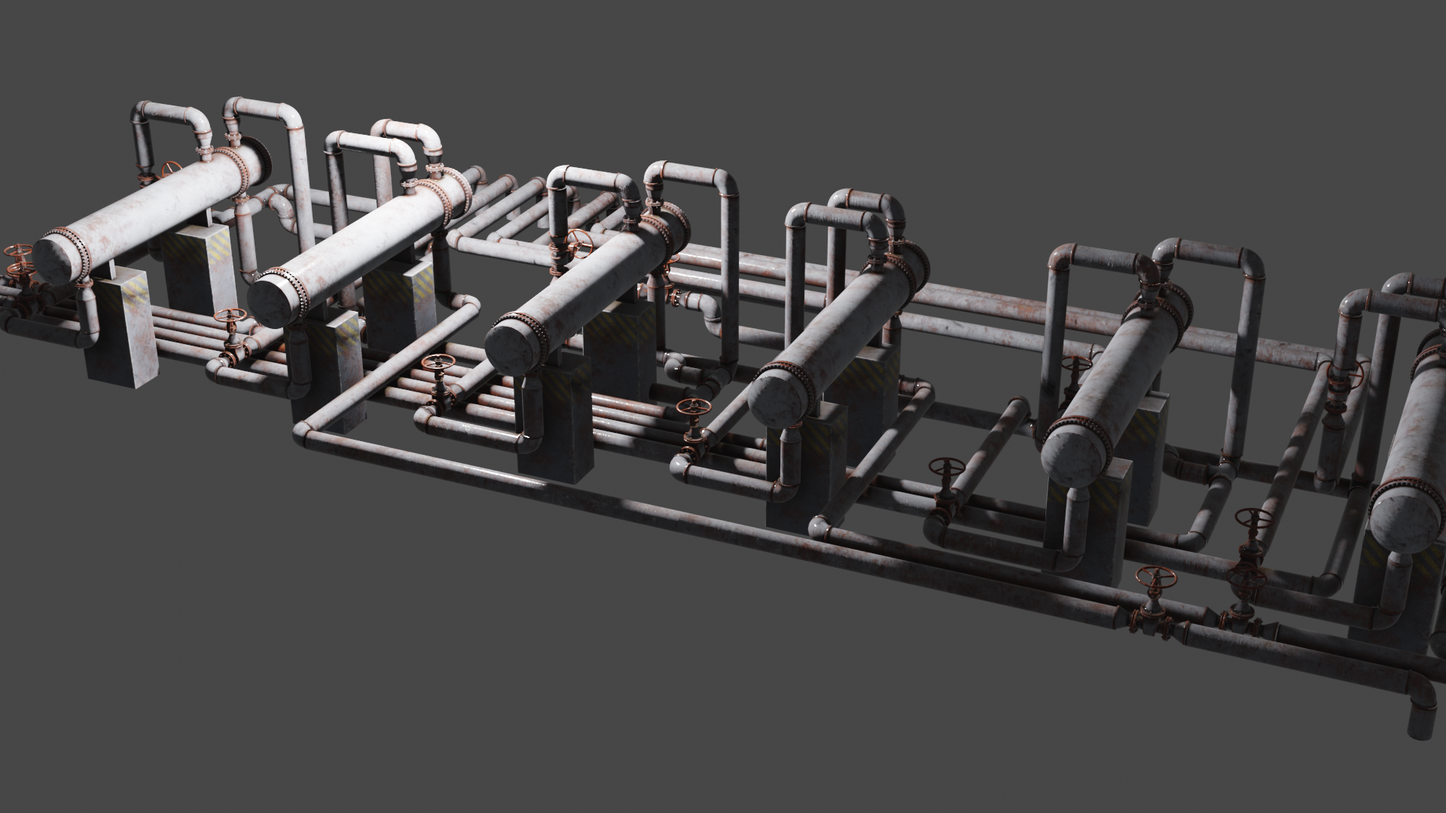HE_1: (1366, 330, 1446, 560)
HE_2: (1034, 277, 1197, 493)
HE_3: (738, 234, 932, 433)
HE_4: (483, 198, 695, 376)
HE_5: (239, 162, 475, 329)
HE_6: (31, 138, 277, 288)
